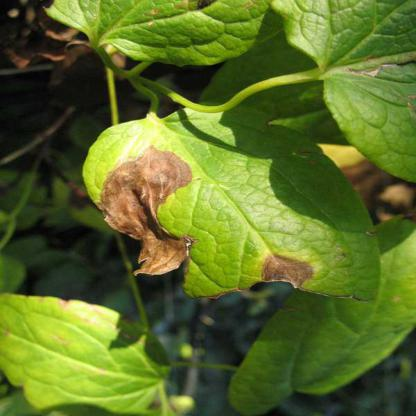tomato leaf bacterial spot: (67, 105, 383, 303)
